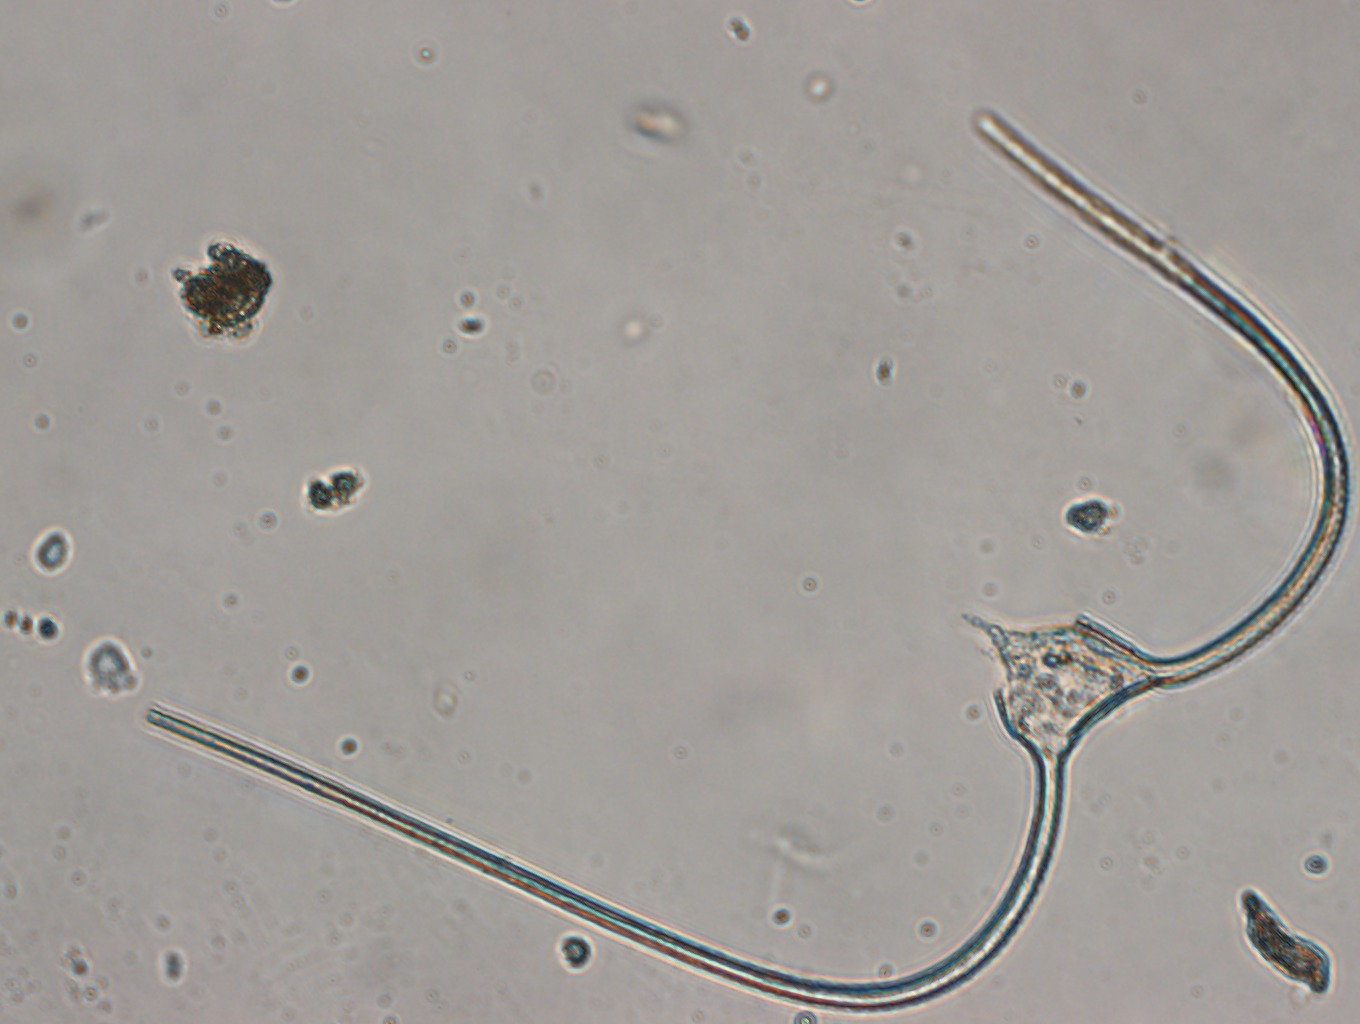ceratium trichoceros: (135, 105, 1360, 1015)
